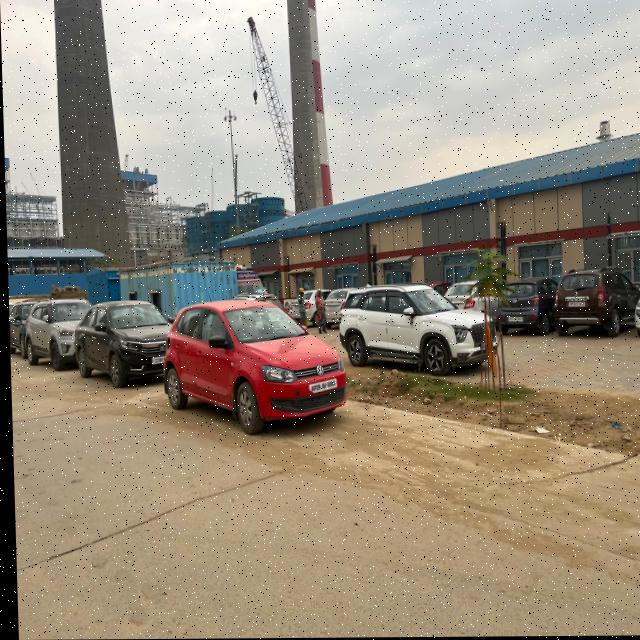car: (159, 297, 354, 455), (337, 284, 498, 377), (71, 301, 171, 404), (548, 263, 634, 342), (21, 292, 92, 373), (493, 271, 556, 344), (445, 277, 499, 312), (7, 300, 32, 360), (323, 283, 350, 326)
